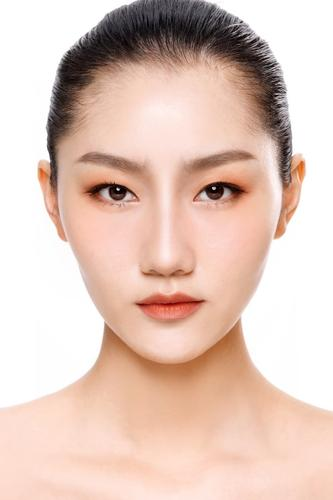no_mask: (48, 49, 288, 366)
